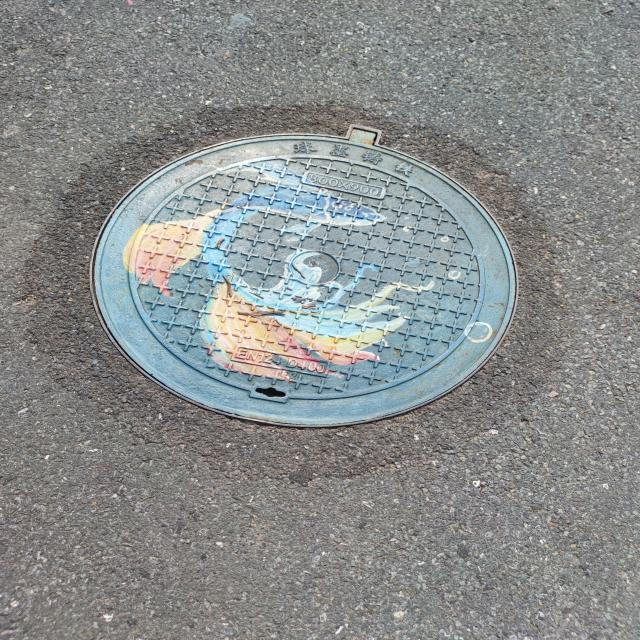Good: (79, 124, 528, 431)
